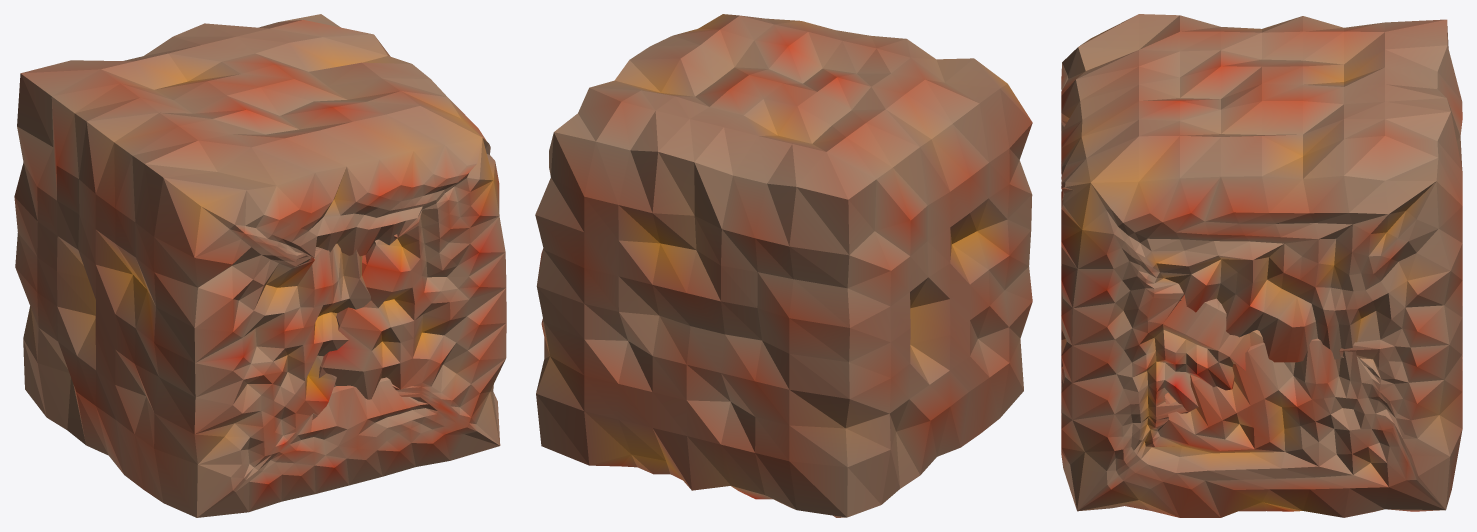
3 renders of one model, left to right at view 1: azimuth 30°, elevation 25°; view 2: azimuth 150°, elevation 25°; view 3: azimuth 270°, elevation 25°, orthographic. The views are drawn at different scales.
Bounding box in the file's own units: 1.1 × 1.1 × 1.1.
